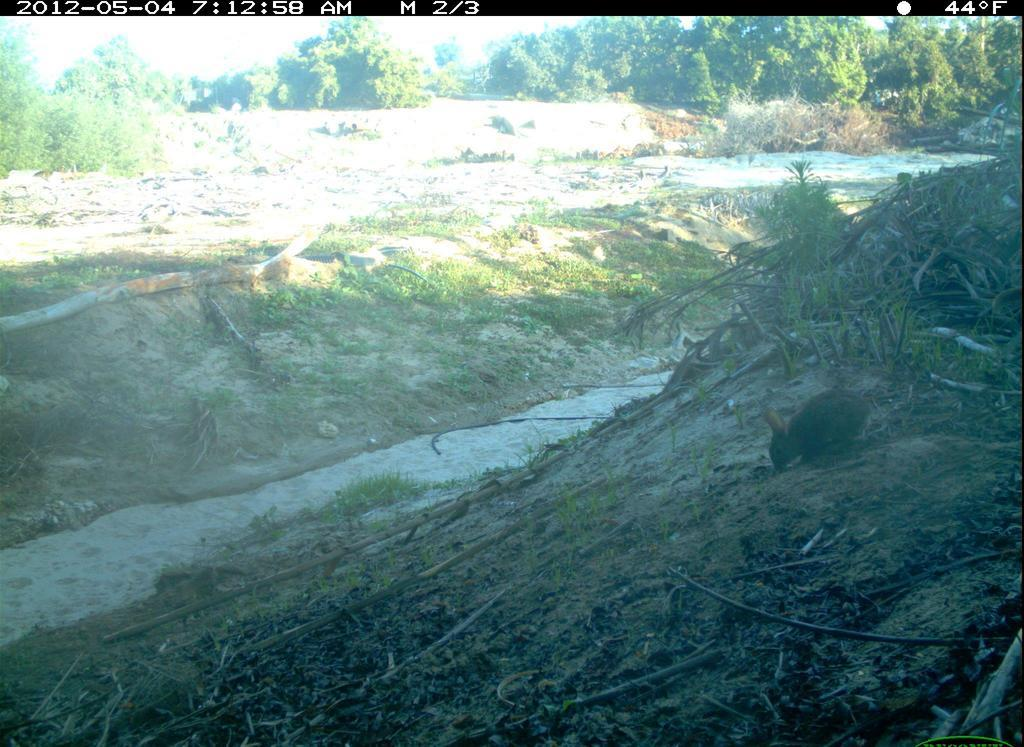rabbit: (752, 381, 884, 488)
